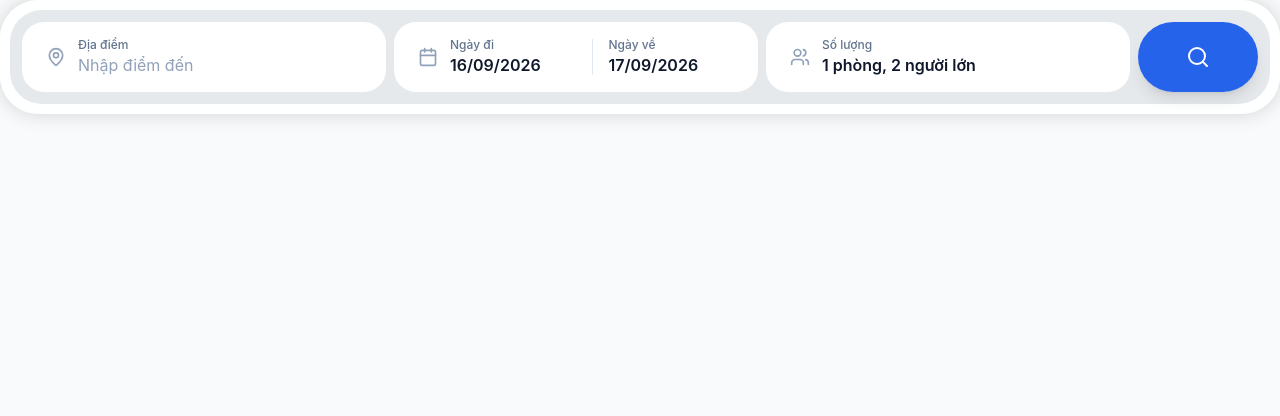
Test: LandingSearchSheet › hotels: clicking the location shows famous hotels in place of popular places
The width and height of the screenshot is (1280, 416).
Focus the dropdown: point(220, 65) x1=78 y1=53 x2=362 y2=77
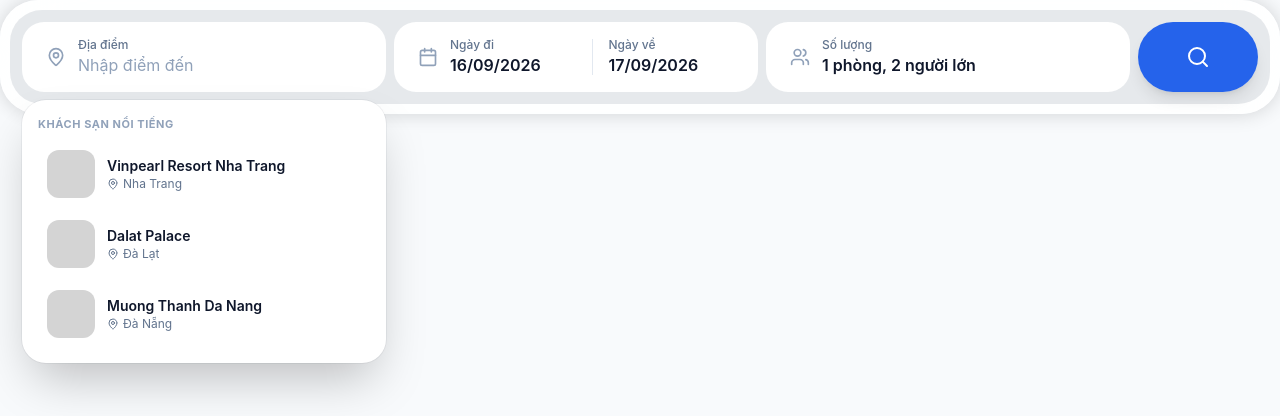
expect the element "Khách sạn nổi tiếng" is shown: met, box x1=38 y1=116 x2=366 y2=346
